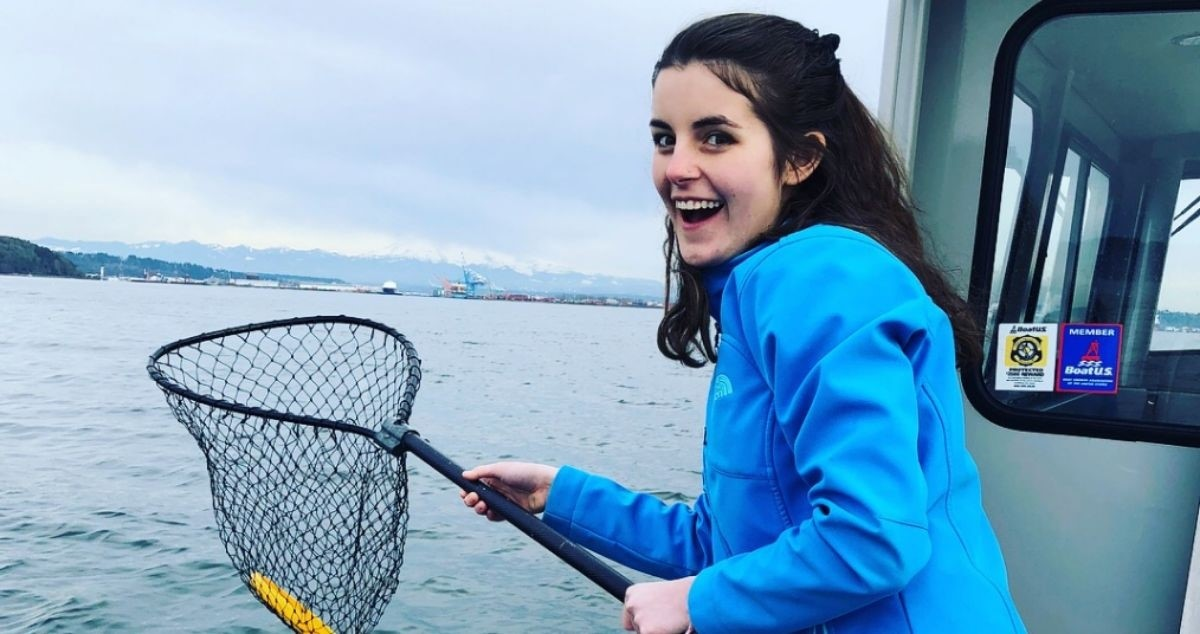face_no_mask: (649, 14, 850, 262)
